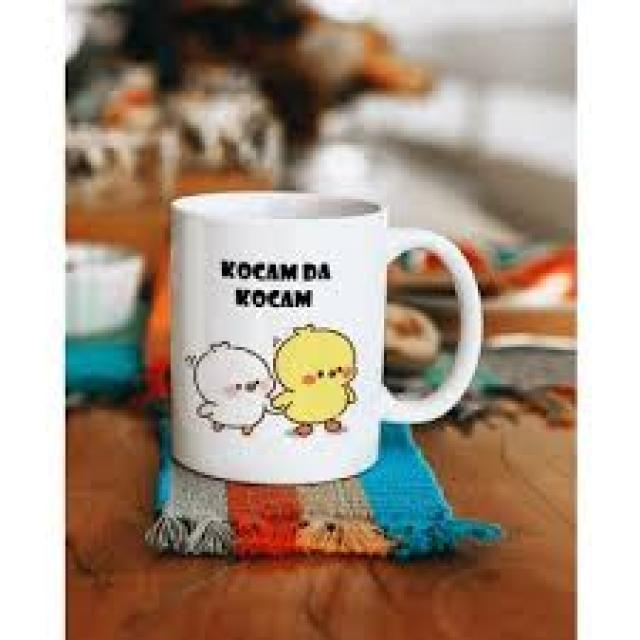taza: (172, 191, 482, 486)
